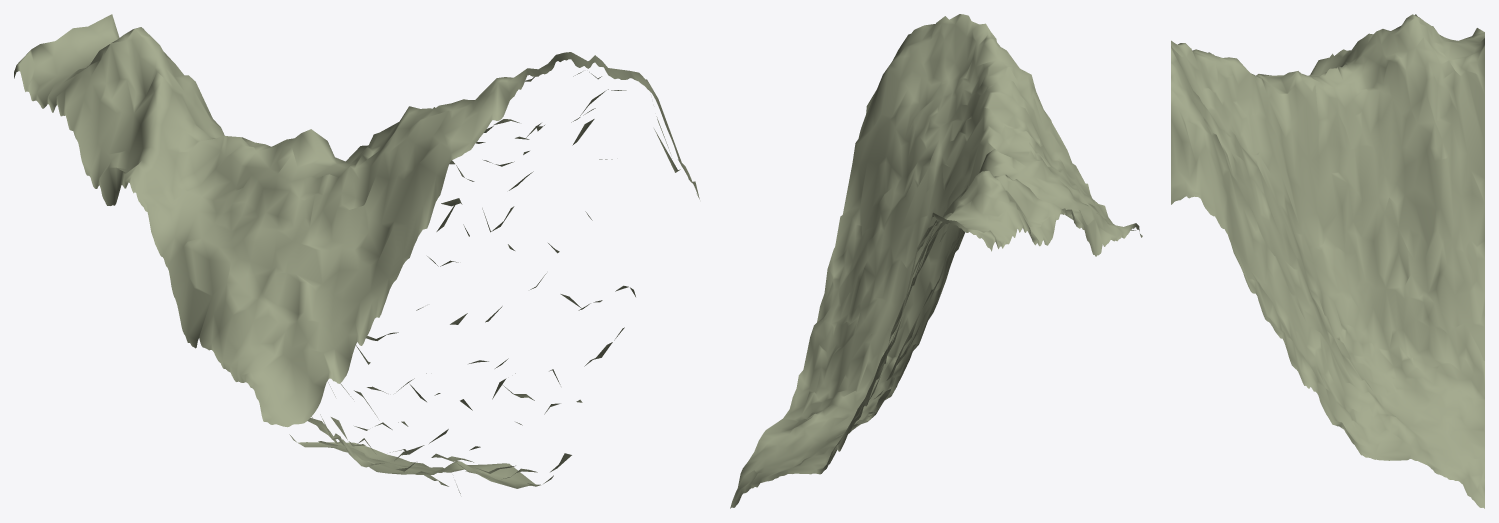
The model's file is terrain_r0_c0_lod1.glb.
The picture shows the model from 3 angles, left to right: view 1: azimuth 30°, elevation 25°; view 2: azimuth 150°, elevation 25°; view 3: azimuth 270°, elevation 25°; orthographic projection. The views are drawn at different scales.
Parts seen in each view (by area): view 1: terrain_r0_c0_lod1; view 2: terrain_r0_c0_lod1; view 3: terrain_r0_c0_lod1.
Boxes of the visible parts, bbox=[...] form: terrain_r0_c0_lod1: bbox=[14, 14, 699, 493]; terrain_r0_c0_lod1: bbox=[730, 14, 1142, 508]; terrain_r0_c0_lod1: bbox=[1171, 14, 1484, 508].
Size of the model in its own units: 50 by 73.76 by 50.
